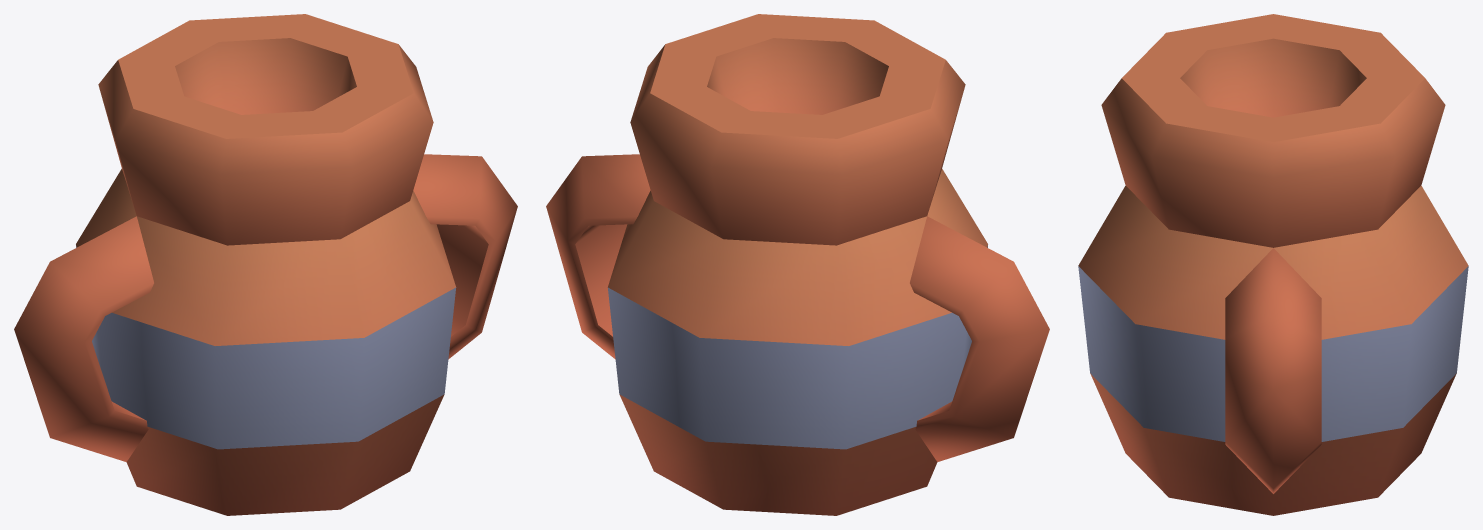
Rendered from pot.obj.
The picture shows the model from 3 angles, left to right: view 1: azimuth 30°, elevation 25°; view 2: azimuth 150°, elevation 25°; view 3: azimuth 270°, elevation 25°; orthographic projection.
Parts seen in each view (by area): view 1: pot; view 2: pot; view 3: pot.
Part boxes in pixels (x1=…): pot: x1=14, y1=14, x2=517, y2=515; pot: x1=546, y1=14, x2=1049, y2=515; pot: x1=1078, y1=14, x2=1468, y2=515.
Size of the model in its own units: 0.5996 by 0.4305 by 0.4059.
1 material, 1 textured.
